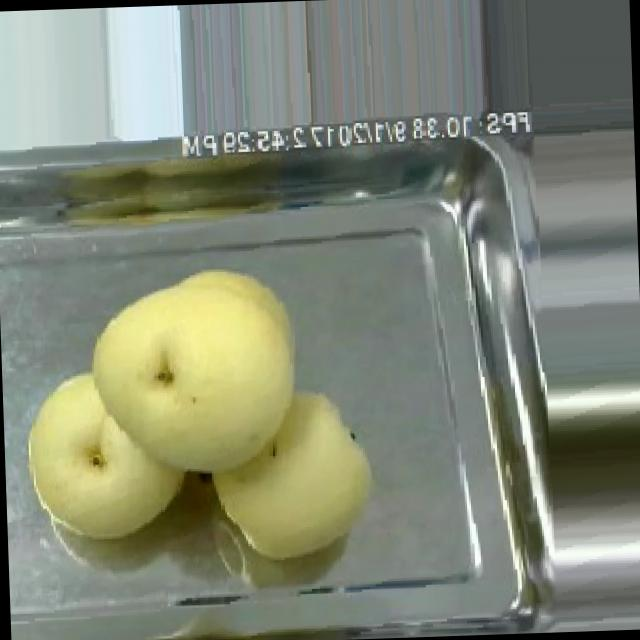Fruit: (74, 251, 318, 492), (9, 356, 200, 556), (196, 376, 388, 570)
